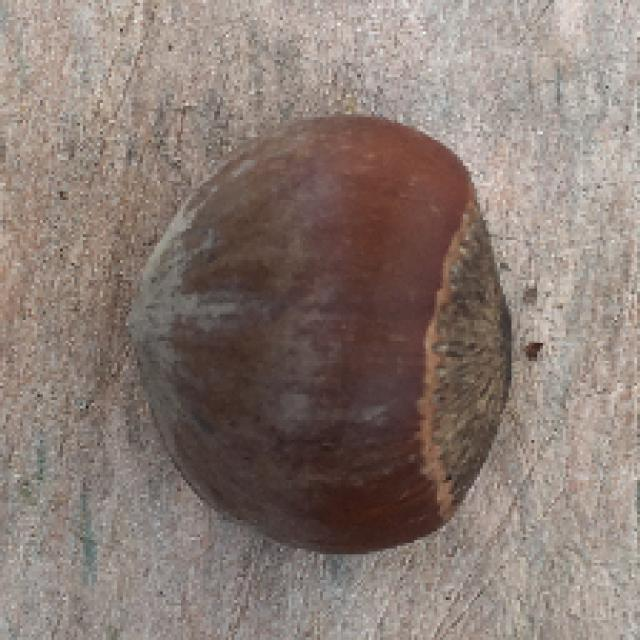damagedHazelnut: (123, 109, 521, 571)
